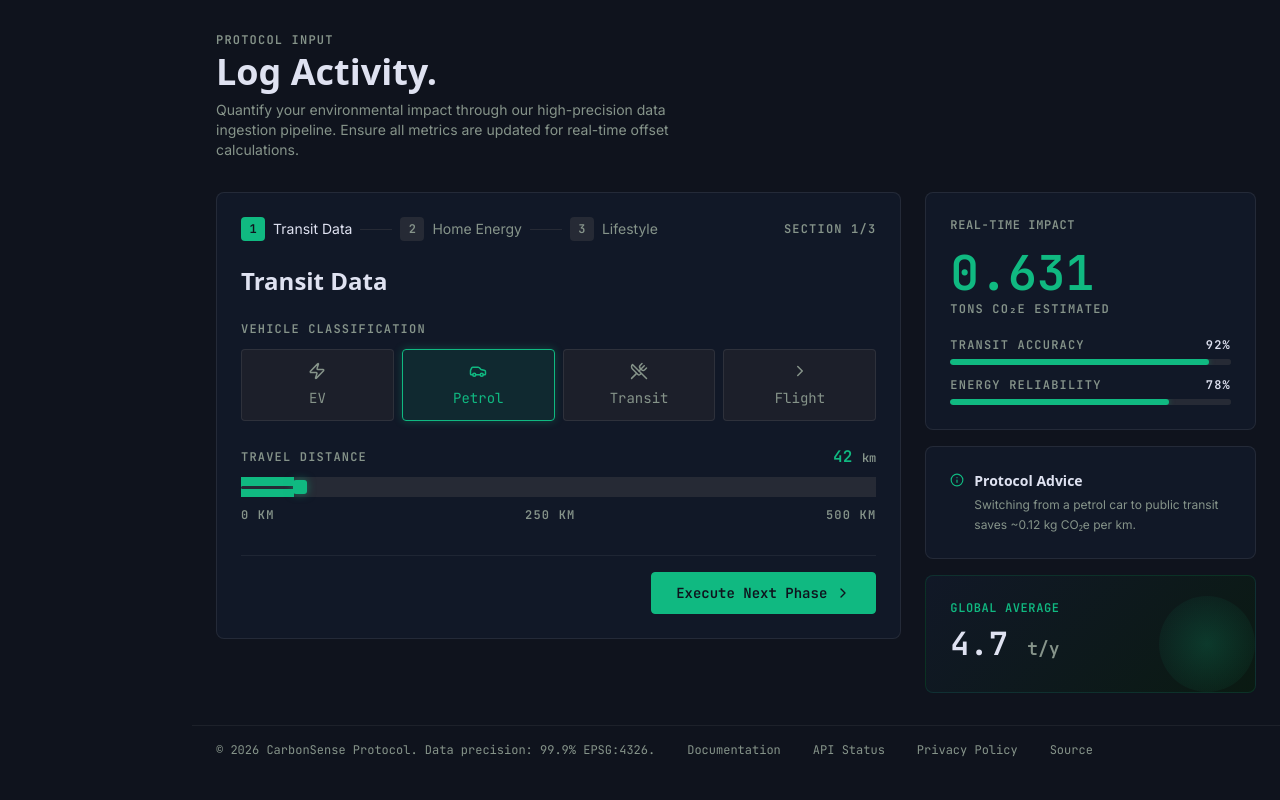
Test case: ActivityWizard — Transit slider integration › moving slider from 0 to 42 shows non-zero distance value
// Set to 0 first
Set the slider named "log daily transit distance" to "0" at (249, 487), box [241,477,876,497]
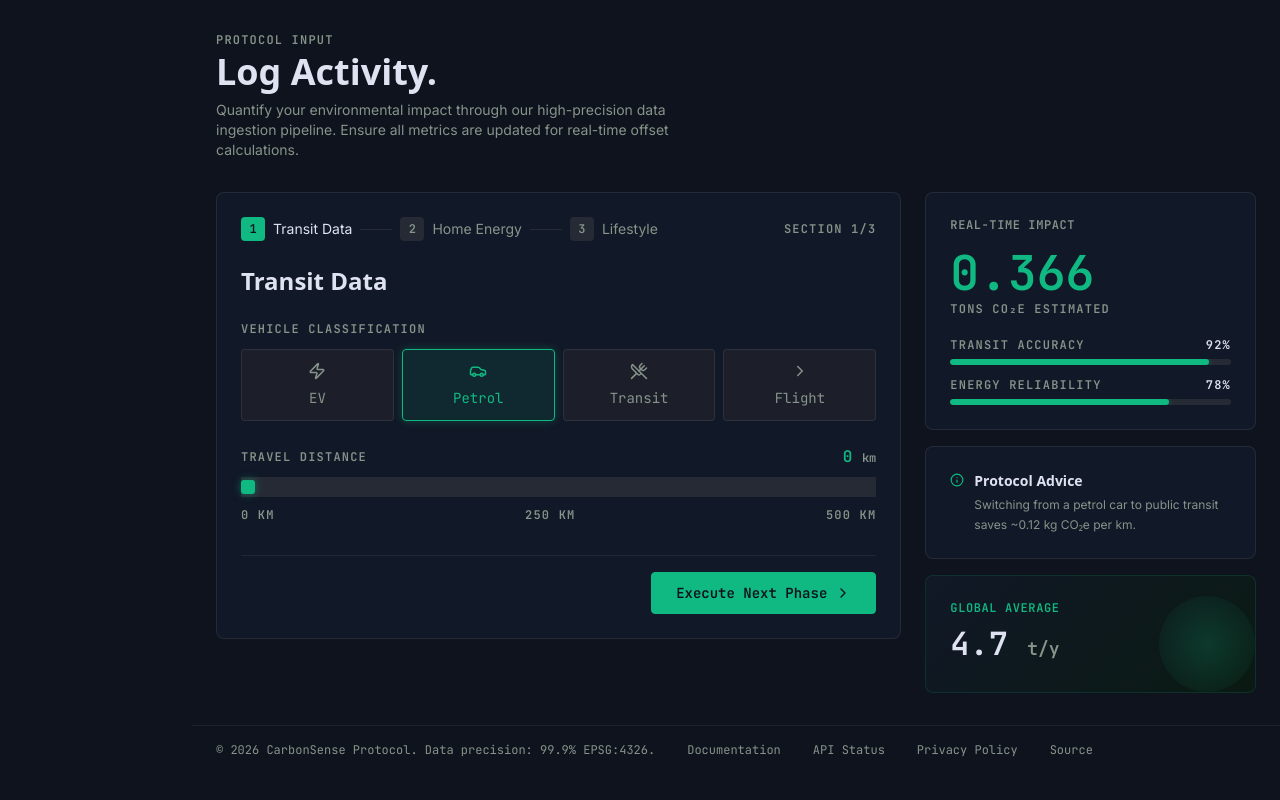
// Move to 42
Set the slider named "log daily transit distance" to "42" at (301, 487), box [241,477,876,497]
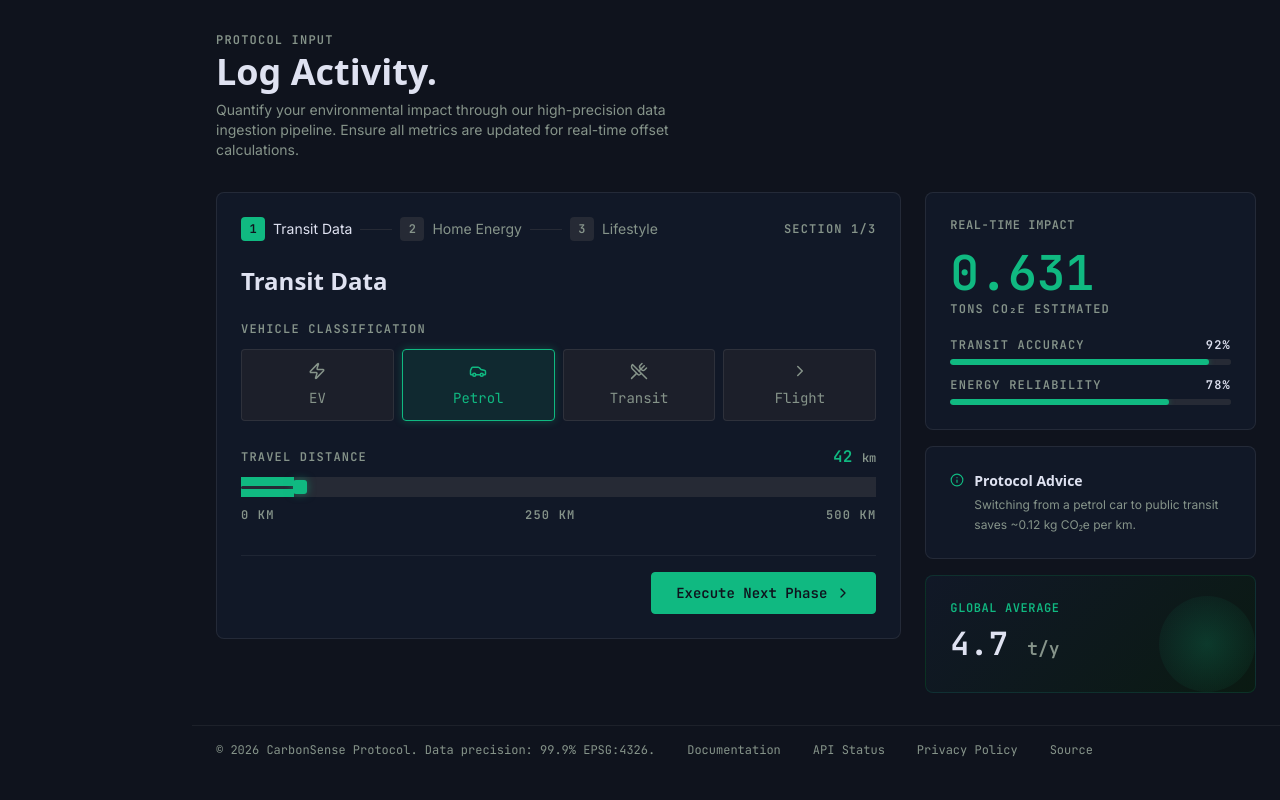
Now the text "42" is shown, box [833,446,852,467]
